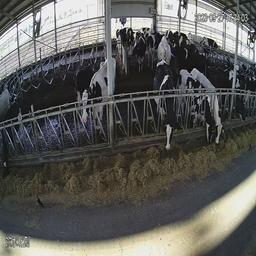cow: (81, 49, 117, 139), (153, 56, 179, 169), (179, 66, 215, 147), (1, 94, 28, 185), (227, 64, 244, 122), (133, 28, 149, 72), (213, 84, 224, 147), (116, 23, 134, 50), (189, 28, 209, 52), (156, 34, 173, 61)
